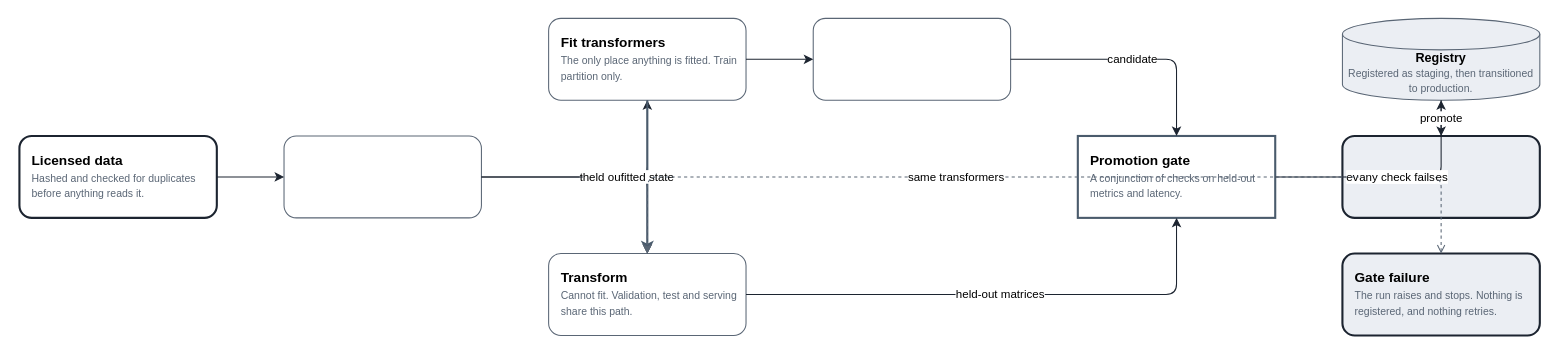
Some shapes in this 1558 by 355 pixel diagram are drawn without their labels. The box of each missing label's shape, as (x1, y1, x2, y2) in pixels:
Partition Train, validation and test, fixed before a feature exists.: (283, 135, 481, 218)
Prediction service Loads only a bundle whose gate flag and checksums verify.: (1341, 134, 1540, 218)
Train candidate Produces a bundle with checksummed artifacts.: (812, 17, 1011, 100)
